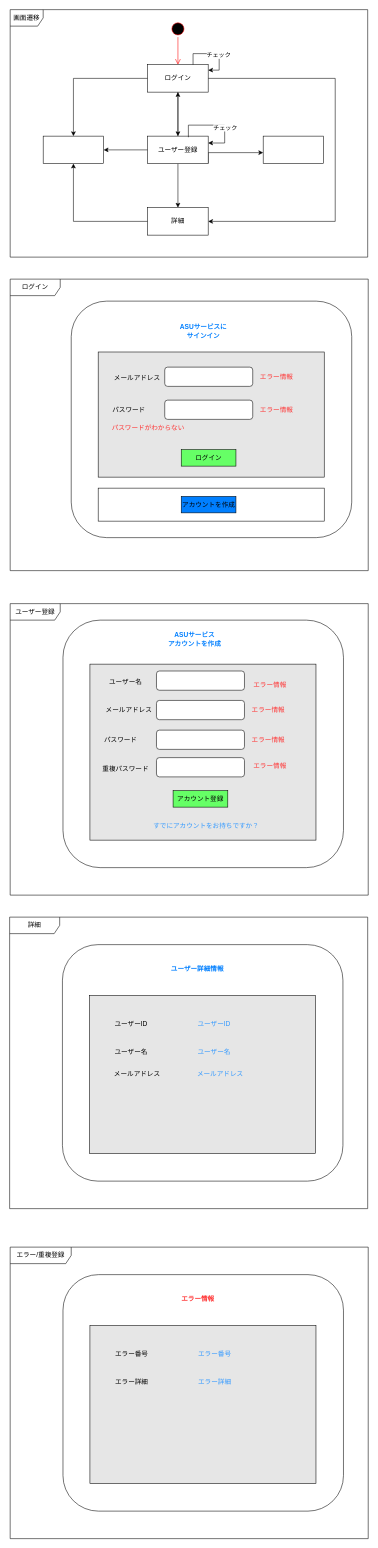
Some shapes in this 378 by 1548 pixel diagram are drawn without their labels. Each missing label, with the centre of its shape:
エラー: the point at 73,150
重複登録: the point at 293,150
